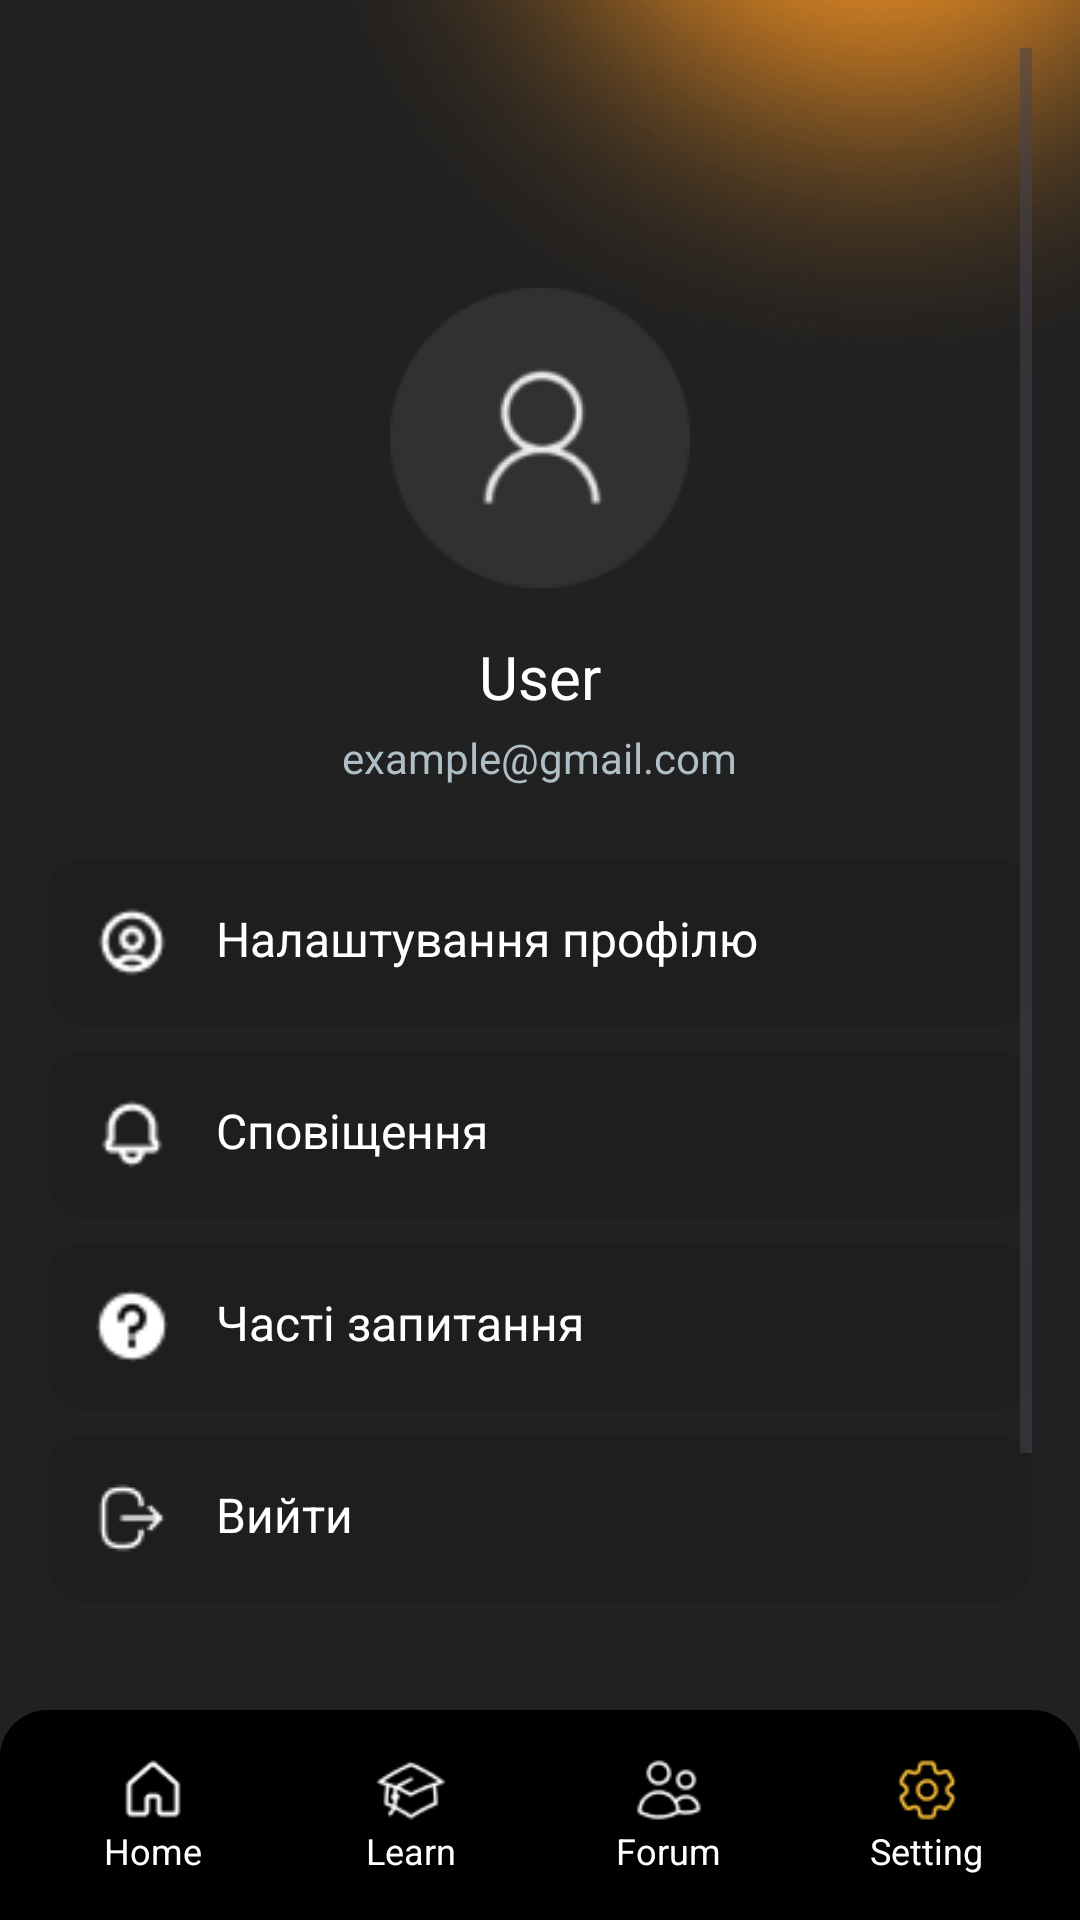

Where icons sit on this 1080 x 1920 app screen, as (x1, y1, x2, y2):
faq: (96, 1290, 168, 1362)
notifications: (102, 1101, 162, 1167)
profile: (99, 909, 165, 975)
